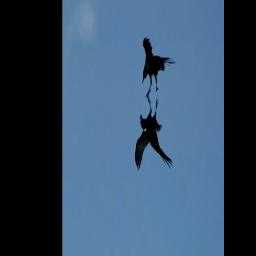Crow: (134, 92, 174, 171)
